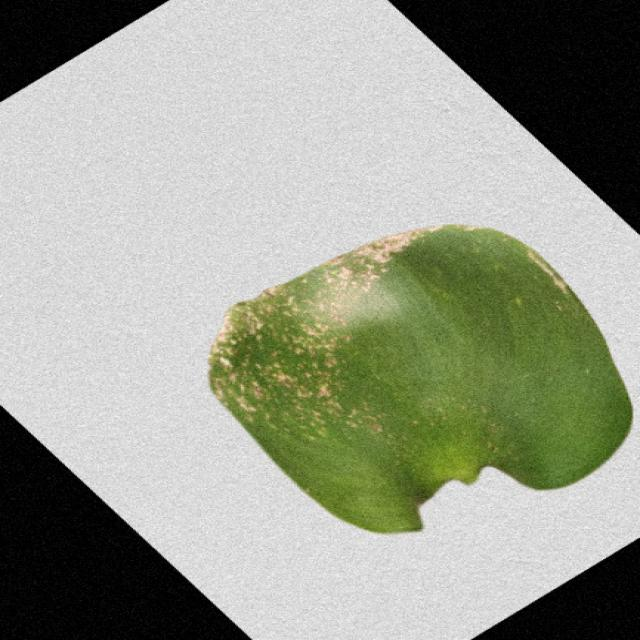daun berpenyakit bercak: (210, 225, 631, 532)
